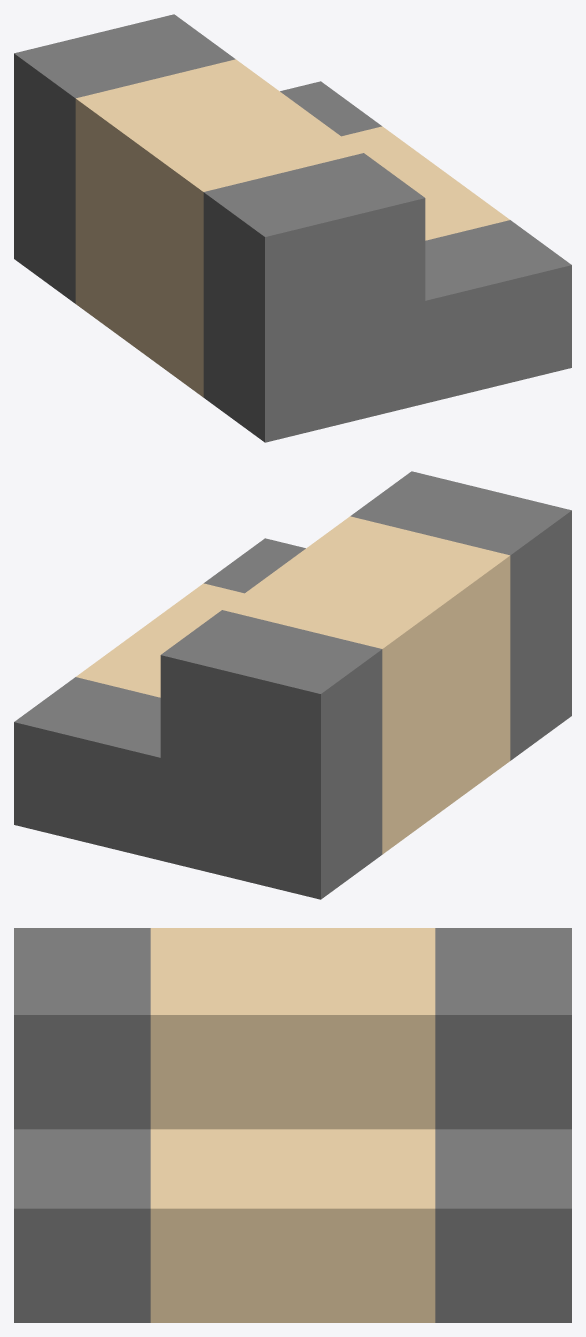
Rendered from Tavern (Steps).fbx.
The picture shows the model from 3 angles, top to bottom: view 1: azimuth 30°, elevation 25°; view 2: azimuth 150°, elevation 25°; view 3: azimuth 270°, elevation 25°; orthographic projection. The views are drawn at different scales.
Parts seen in each view (by area): view 1: Tavern (Steps); view 2: Tavern (Steps); view 3: Tavern (Steps).
Part boxes in pixels (left/top/right/bottom): Tavern (Steps): left=14, top=14, right=571, bottom=442; Tavern (Steps): left=14, top=471, right=571, bottom=899; Tavern (Steps): left=14, top=928, right=571, bottom=1322.
Bounding box in the file's own units: 141 × 90.33 × 200.
